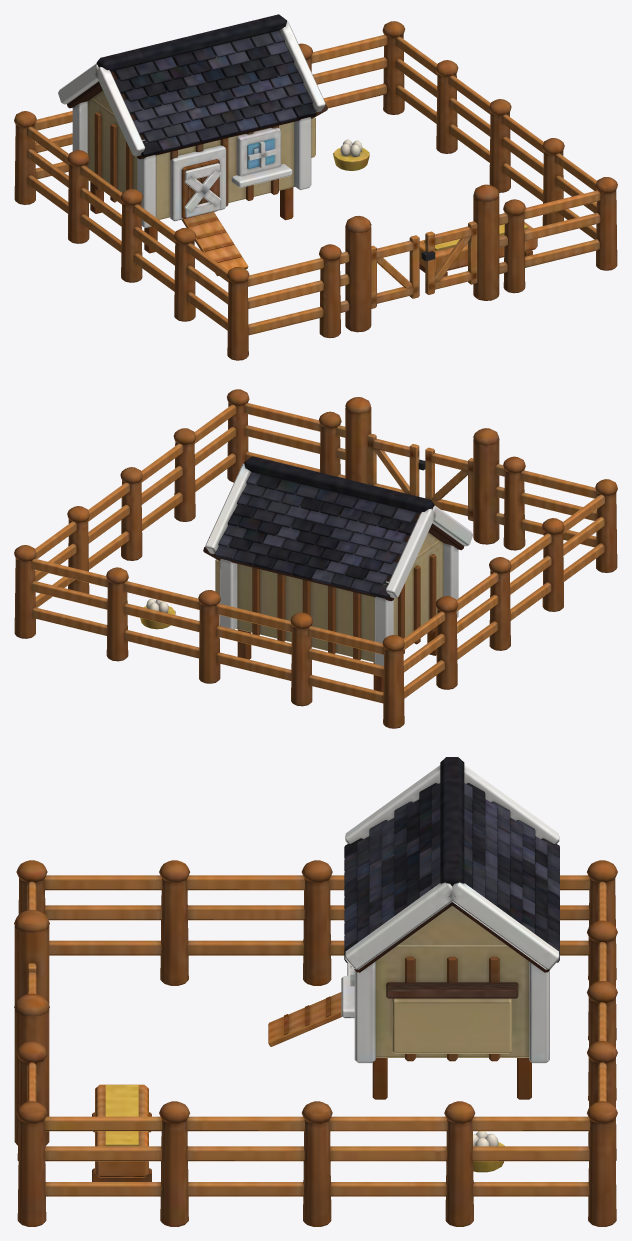
Rendered from cemani_coop.glb.
The picture shows the model from 3 angles, top to bottom: view 1: azimuth 30°, elevation 25°; view 2: azimuth 150°, elevation 25°; view 3: azimuth 270°, elevation 25°; orthographic projection. The views are drawn at different scales.
Parts seen in each view (by area): view 1: cemani_coop, gate1, gate0; view 2: cemani_coop, gate1, gate0; view 3: cemani_coop.
Part boxes in pixels (left/top/right/bottom): cemani_coop: left=14, top=14, right=617, bottom=360; gate1: left=421, top=221, right=477, bottom=294; gate0: left=371, top=235, right=419, bottom=308; cemani_coop: left=14, top=389, right=617, bottom=728; gate1: left=367, top=433, right=425, bottom=496; gate0: left=425, top=447, right=473, bottom=521; cemani_coop: left=14, top=757, right=617, bottom=1226.
Bounding box in the file's own units: 2 × 0.8813 × 2.01.
1 material, 1 textured.
